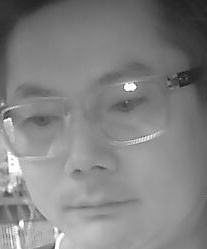eye: (107, 95, 148, 115), (19, 112, 60, 131)
glass: (87, 73, 172, 143), (1, 94, 75, 161)
mouth: (62, 185, 142, 231)
